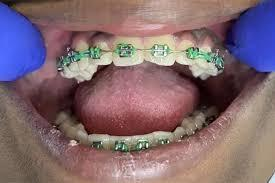Braces: (56, 43, 227, 77), (88, 137, 172, 153)
